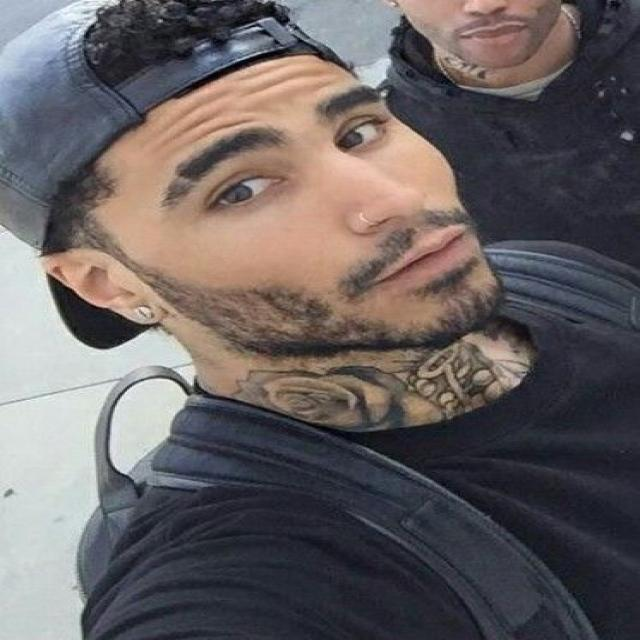Earring: (121, 300, 158, 328)
